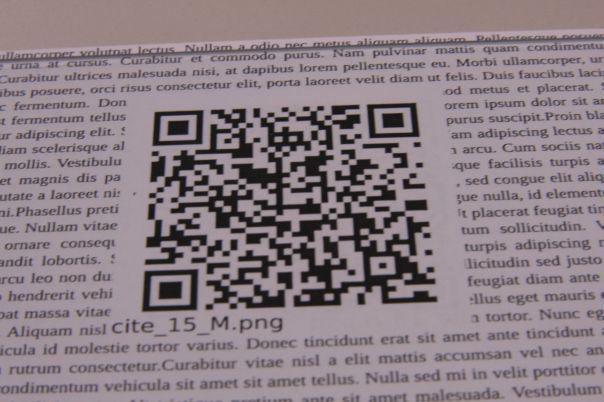Finder pattern: (141, 266, 204, 313), (365, 100, 426, 142), (151, 109, 206, 147)
